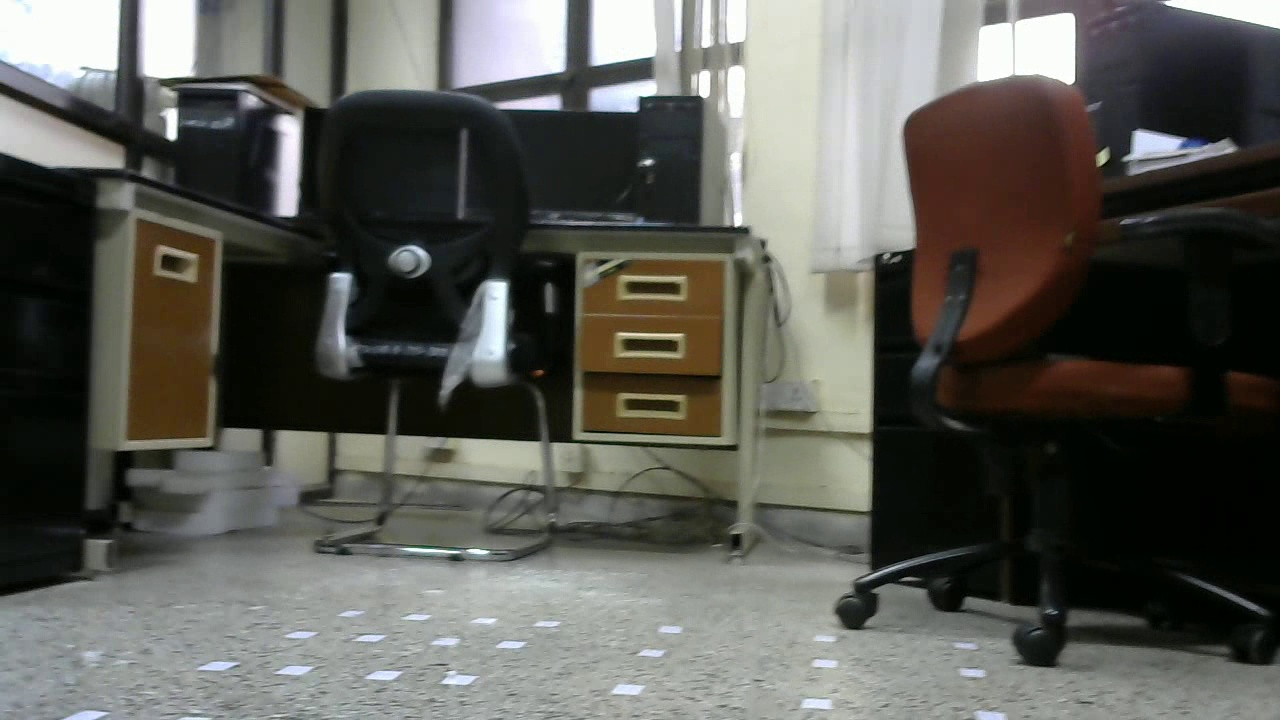chair: (837, 75, 1279, 674), (308, 87, 553, 562)
